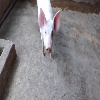heo: (36, 6, 61, 60)
